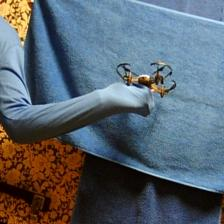drone: (115, 58, 177, 98)
